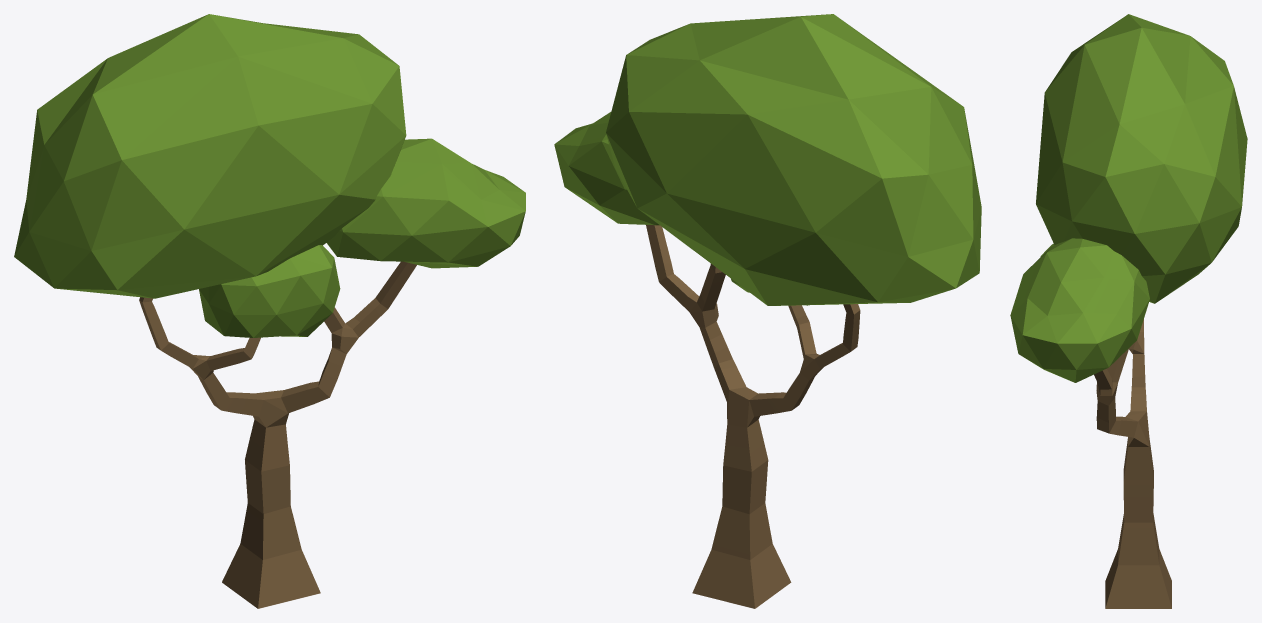
File: AppleTree3.fbx
The picture shows the model from 3 angles, left to right: view 1: azimuth 30°, elevation 25°; view 2: azimuth 150°, elevation 25°; view 3: azimuth 270°, elevation 25°; orthographic projection. The views are drawn at different scales.
Visible parts, largest first — view 1: AppleTree3Foliage, AppleTree3; view 2: AppleTree3Foliage, AppleTree3; view 3: AppleTree3Foliage, AppleTree3.
Boxes of the visible parts, left/top/right/bottom form: AppleTree3Foliage: left=14, top=14, right=525, bottom=337; AppleTree3: left=139, top=261, right=416, bottom=608; AppleTree3Foliage: left=554, top=14, right=981, bottom=305; AppleTree3: left=646, top=225, right=860, bottom=608; AppleTree3Foliage: left=1010, top=14, right=1247, bottom=382; AppleTree3: left=1094, top=319, right=1171, bottom=608.
Size of the model in its own units: 5.03 by 6.31 by 2.51.
